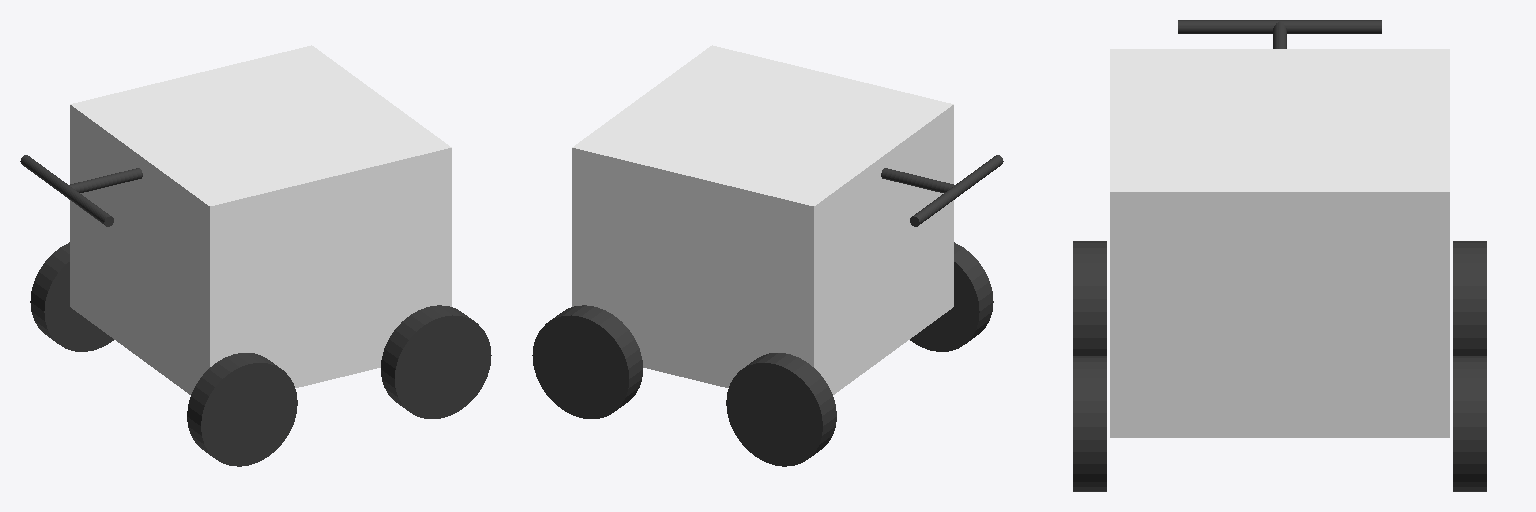
The robot description file, URDF, robot "pole_box":
<?xml version="1.0"?>
<robot name="pole_box">

  <link name="box">
    <contact>
        <lateral_friction value="0.5"/>
        <rolling_friction value="0.0"/>
        <contact_cfm value="0.0"/>
        <contact_erp value="1.0"/>
    </contact>
    <inertial>
        <origin rpy="0 0 0" xyz="0 0 0"/>
        <mass value="30"/>
    </inertial>
    <visual>
        <origin rpy="0 0 0" xyz="0 0 0"/>
        <geometry>
        <box size="1.0 1.0 0.8"/>
        </geometry>
        <material name="slider_mat">
        <color rgba="1.0 1.0 1.0 1"/>
        </material>
    </visual>
    <collision>
        <origin rpy="0 0 0" xyz="0 0 0"/>
        <geometry>
        <box size="1.0 1.0 0.8"/>
        </geometry>
    </collision>
  </link>

  <link name="link_pole">
    <contact>
      <lateral_friction value="0.5"/>
      <rolling_friction value="0.0"/>
      <contact_cfm value="0.0"/>
      <contact_erp value="1.0"/>
    </contact>
    <inertial>
      <origin rpy="0 0 0" xyz="0 0 0"/>
        <mass value="1"/>
    </inertial>
    <visual>
        <origin rpy="0 0 0" xyz="0 0 0"/>
      <geometry>
        <!-- <box size="0.03 8 0.03"/> -->
        <cylinder length="0.3" radius="0.02"/>
      </geometry>
      <material name="slider_mat">
        <color rgba="0.3 0.3 0.3 1"/>
      </material>
    </visual>
    <collision>
      <origin rpy="0 0 0" xyz="0 0 0"/>
      <geometry>
        <!-- <box size="0.03 8 0.03"/>-->
        <cylinder length="0.3" radius="0.02"/>
      </geometry>
    </collision>
  </link>
  <joint name="box_to_link_pole" type="fixed">
    <parent link="box"/>
    <child link="link_pole"/>
    <origin rpy="0 1.5708 0" xyz="-0.65 0 0.33"/>
  </joint>

  <link name="handle_pole">
    <contact>
      <lateral_friction value="0.5"/>
      <rolling_friction value="0.0"/>
      <contact_cfm value="0.0"/>
      <contact_erp value="1.0"/>
    </contact>
    <inertial>
      <origin rpy="0 0 0" xyz="0 0 0"/>
        <mass value="1"/>
    </inertial>
    <visual>
        <origin rpy="0 0 0" xyz="0 0 0"/>
      <geometry>
        <!-- <box size="0.03 8 0.03"/> -->
        <cylinder length="0.6" radius="0.02"/>
      </geometry>
      <material name="slider_mat">
        <color rgba="0.3 0.3 0.3 1"/>
      </material>
    </visual>
    <collision>
      <origin rpy="0 0 0" xyz="0 0 0"/>
      <geometry>
        <!-- <box size="0.03 8 0.03"/>-->
        <cylinder length="0.6" radius="0.02"/>
      </geometry>
    </collision>
  </link>
  <joint name="link_pole_to_handle_pole" type="fixed">
    <parent link="link_pole"/>
    <child link="handle_pole"/>
    <origin rpy="1.5708 0 0" xyz="0 0 -0.15"/>
  </joint>

  <link name="right_front_wheel">
    <inertial>
      <origin rpy="0 0 0" xyz="0 0 0"/>
        <mass value="5"/>
    </inertial>
    <visual>
        <origin rpy="0 0 0" xyz="0 0 0"/>
      <geometry>
        <!-- <box size="0.03 8 0.03"/> -->
        <cylinder length="0.1" radius="0.2"/>
      </geometry>
      <material name="slider_mat">
        <color rgba="0.3 0.3 0.3 1"/>
      </material>
    </visual>
    <collision>
      <origin rpy="0 0 0" xyz="0 0 0"/>
      <geometry>
        <!-- <box size="0.03 8 0.03"/>-->
        <cylinder length="0.1" radius="0.2"/>
      </geometry>
    </collision>
  </link>
  <joint name="box_to_right_front_wheel" type="continuous">
    <parent link="box"/>
    <child link="right_front_wheel"/>
    <origin rpy="1.5708 0 0" xyz="-0.4 0.56 -0.4"/>
    <axis xyz="0 0 1"/>
  </joint>

  <link name="right_rear_wheel">
    <inertial>
      <origin rpy="0 0 0" xyz="0 0 0"/>
        <mass value="5"/>
    </inertial>
    <visual>
        <origin rpy="0 0 0" xyz="0 0 0"/>
      <geometry>
        <!-- <box size="0.03 8 0.03"/> -->
        <cylinder length="0.1" radius="0.2"/>
      </geometry>
      <material name="slider_mat">
        <color rgba="0.3 0.3 0.3 1"/>
      </material>
    </visual>
    <collision>
      <origin rpy="0 0 0" xyz="0 0 0"/>
      <geometry>
        <!-- <box size="0.03 8 0.03"/>-->
        <cylinder length="0.1" radius="0.2"/>
      </geometry>
    </collision>
  </link>
  <joint name="box_to_right_rear_wheel" type="continuous">
    <parent link="box"/>
    <child link="right_rear_wheel"/>
    <origin rpy="1.5708 0 0" xyz="0.4 0.56 -0.4"/>
    <axis xyz="0 0 1"/>
  </joint>

  <link name="left_front_wheel">
    <inertial>
      <origin rpy="0 0 0" xyz="0 0 0"/>
        <mass value="5"/>
    </inertial>
    <visual>
        <origin rpy="0 0 0" xyz="0 0 0"/>
      <geometry>
        <!-- <box size="0.03 8 0.03"/> -->
        <cylinder length="0.1" radius="0.2"/>
      </geometry>
      <material name="slider_mat">
        <color rgba="0.3 0.3 0.3 1"/>
      </material>
    </visual>
    <collision>
      <origin rpy="0 0 0" xyz="0 0 0"/>
      <geometry>
        <!-- <box size="0.03 8 0.03"/>-->
        <cylinder length="0.1" radius="0.2"/>
      </geometry>
    </collision>
  </link>
  <joint name="box_to_left_front_wheel" type="continuous">
    <parent link="box"/>
    <child link="left_front_wheel"/>
    <origin rpy="1.5708 0 0" xyz="-0.4 -0.56 -0.4"/>
    <axis xyz="0 0 1"/>
  </joint>

  <link name="left_rear_wheel">
    <inertial>
      <origin rpy="0 0 0" xyz="0 0 0"/>
        <mass value="5"/>
    </inertial>
    <visual>
        <origin rpy="0 0 0" xyz="0 0 0"/>
      <geometry>
        <!-- <box size="0.03 8 0.03"/> -->
        <cylinder length="0.1" radius="0.2"/>
      </geometry>
      <material name="slider_mat">
        <color rgba="0.3 0.3 0.3 1"/>
      </material>
    </visual>
    <collision>
      <origin rpy="0 0 0" xyz="0 0 0"/>
      <geometry>
        <!-- <box size="0.03 8 0.03"/>-->
        <cylinder length="0.1" radius="0.2"/>
      </geometry>
    </collision>
  </link>
  <joint name="box_to_left_rear_wheel" type="continuous">
    <parent link="box"/>
    <child link="left_rear_wheel"/>
    <origin rpy="1.5708 0 0" xyz="0.4 -0.56 -0.4"/>
    <axis xyz="0 0 1"/>
  </joint>

</robot>

--- Render facts (derived) ---
3 views of the same robot in one strip: view 1: azimuth 30°, elevation 25°; view 2: azimuth 150°, elevation 25°; view 3: azimuth 270°, elevation 25° (orthographic).
Model pole_box with 7 links and 6 joints (4 continuous, 2 fixed), rooted at box, posed every joint at zero.
Links seen in each view (by area): view 1: box, left_rear_wheel, left_front_wheel, right_front_wheel, handle_pole, link_pole; view 2: box, right_rear_wheel, right_front_wheel, left_front_wheel, handle_pole, link_pole; view 3: box, right_rear_wheel, left_rear_wheel, right_front_wheel, left_front_wheel, handle_pole.
Boxes of the visible links, x1,y1,x2,y2 form: box: (70,45,451,394); left_rear_wheel: (381,305,491,418); left_front_wheel: (187,353,297,466); right_front_wheel: (30,242,113,351); handle_pole: (20,155,113,226); link_pole: (68,168,142,192); box: (572,45,953,394); right_rear_wheel: (532,305,642,418); right_front_wheel: (726,353,836,466); left_front_wheel: (910,242,993,351); handle_pole: (910,155,1003,226); link_pole: (881,168,955,192); box: (1110,49,1449,437); right_rear_wheel: (1453,356,1486,491); left_rear_wheel: (1073,356,1106,491); right_front_wheel: (1453,241,1486,355); left_front_wheel: (1073,241,1106,355); handle_pole: (1178,20,1381,33).
Bounding box of the posed robot: 1.42 × 1.22 × 1 m (x, y, z).
Geometry: primitives only (box / cylinder / sphere), no mesh files.